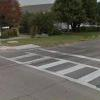Crosswalk: (8, 38, 95, 86)
